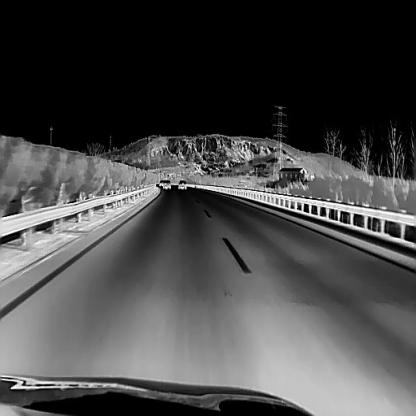car: (162, 178, 171, 188), (177, 178, 186, 188), (158, 179, 163, 185)
